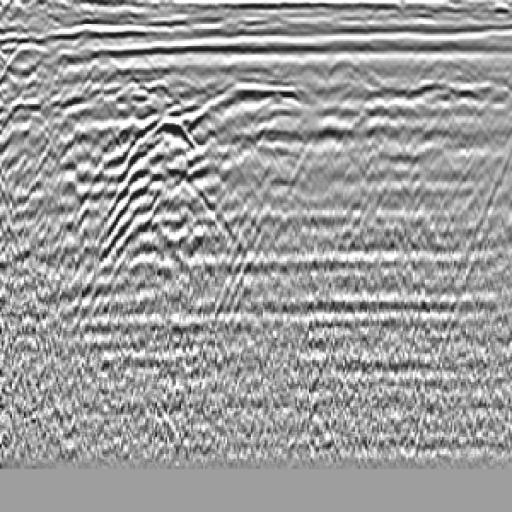metalic: (188, 73, 354, 290), (347, 68, 475, 248)
non-metallic: (59, 92, 260, 287)
